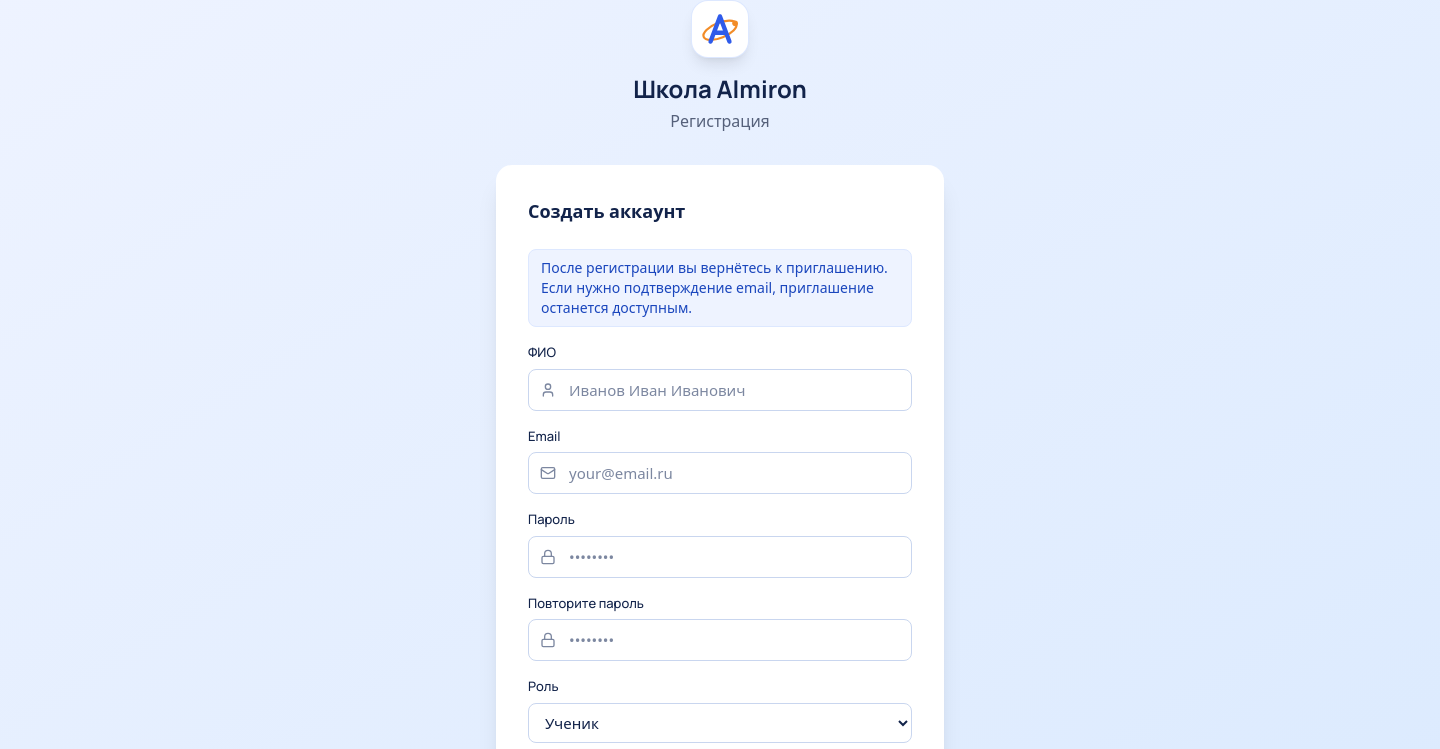
Test: Invite-aware auth flow › signup in invite mode refuses to proceed without a full name
In the field with placeholder "your@email.ru": (720, 473) [528,452,912,494], type "student@example.com"
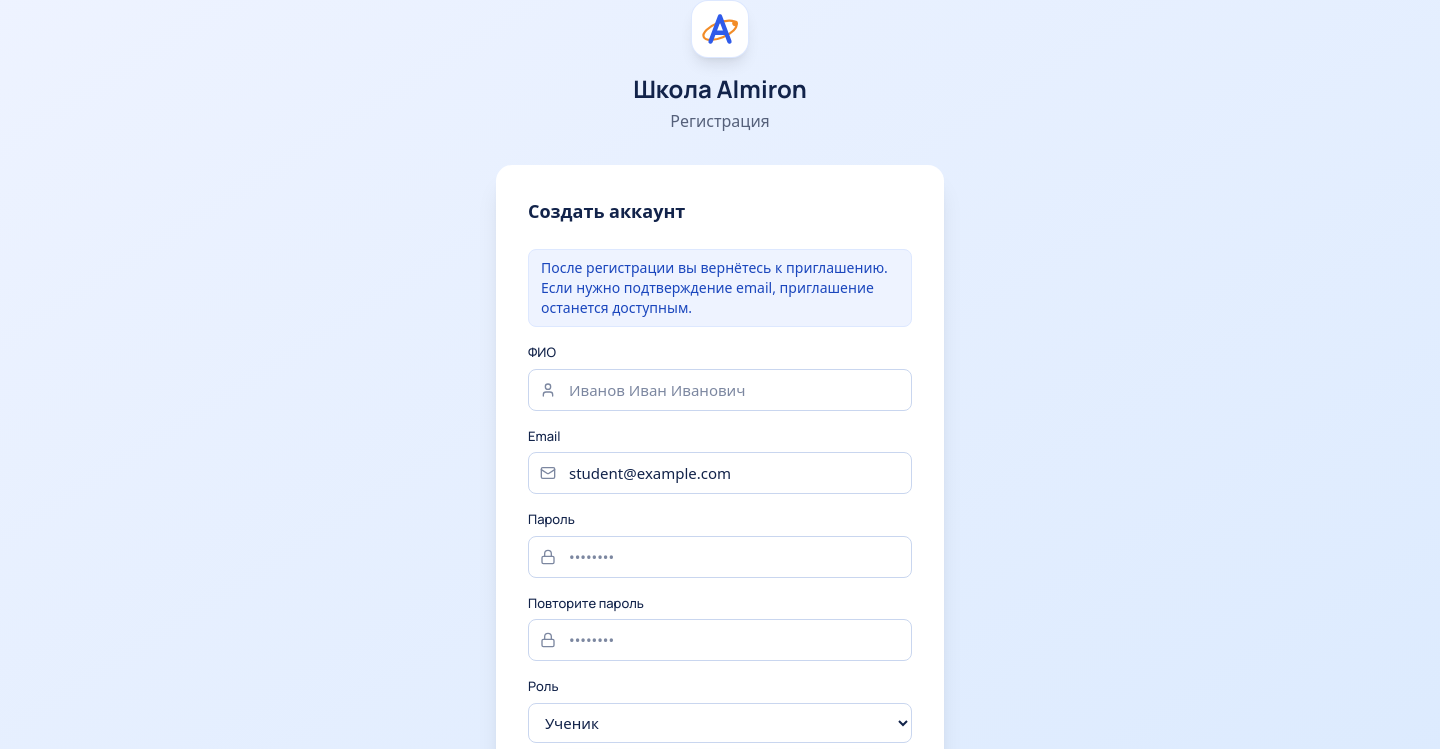
In the password field with placeholder "••••••••": (720, 556) [528,536,912,578], type "secret12"
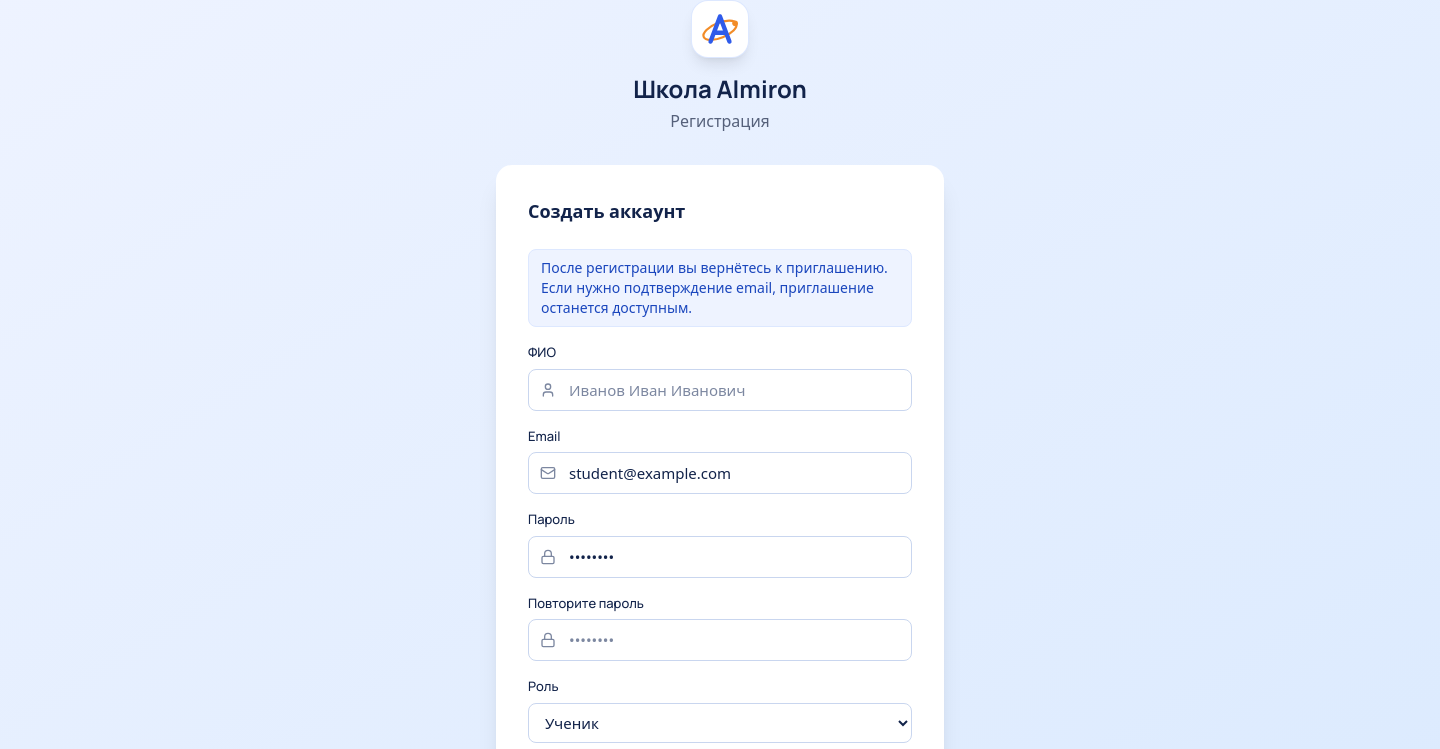
In the password field with placeholder "••••••••": (720, 640) [528,619,912,661], type "secret12"
(page scrolled)
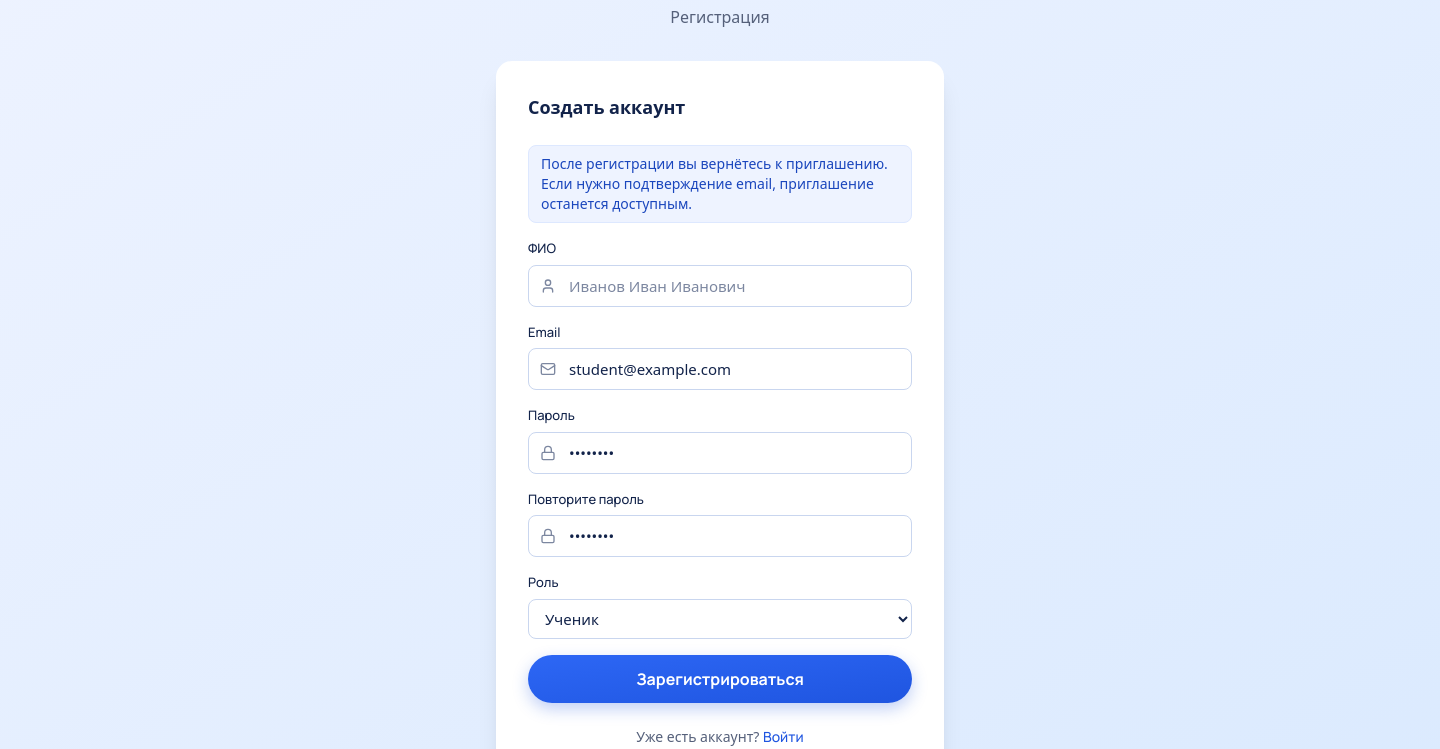
Click the button "Зарегистрироваться": (720, 678) [528,654,912,702]
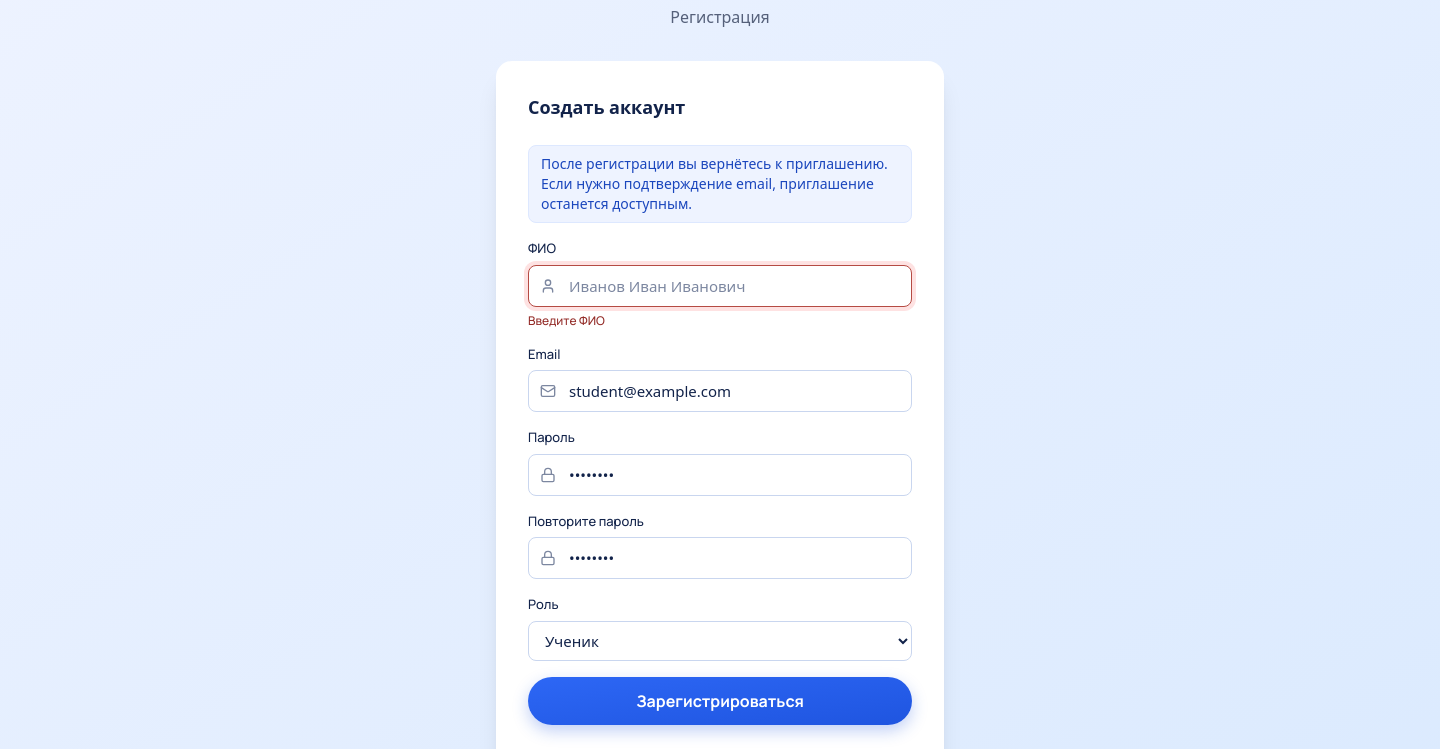
Expected: the text "Введите ФИО" is shown, [528,312,605,328]
